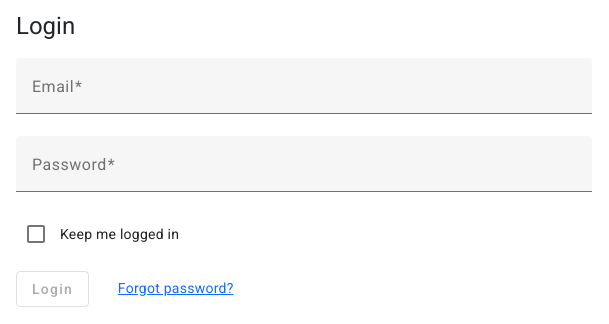
LoginComponent › form completion and submission › the Login button should be disabled unless all inputs are valid
expect the button "MatButtonHarness" is disabled: met, box [16,271,89,307]
Type "testuser@test.com" into the field with id "username". click: x=304, y=94
box: [32,82,576,106]
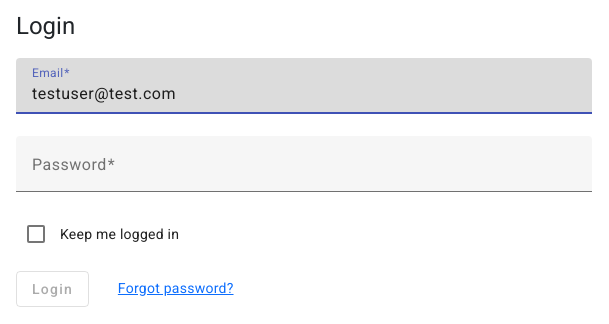
expect the button "MatButtonHarness" is disabled: met, box [16,271,89,307]
Type "mkeof&Tgh1p" into the password field. click: x=304, y=172
box: [32,160,576,184]
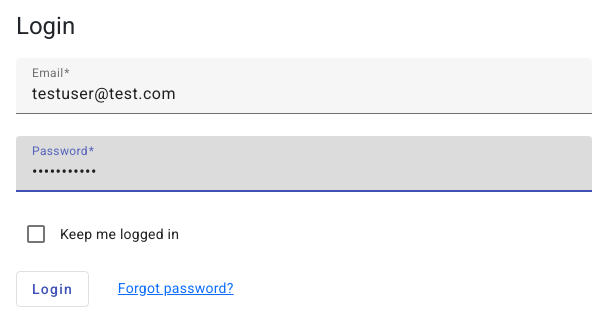
expect the button "MatButtonHarness" is enabled: met, box [16,271,89,307]
